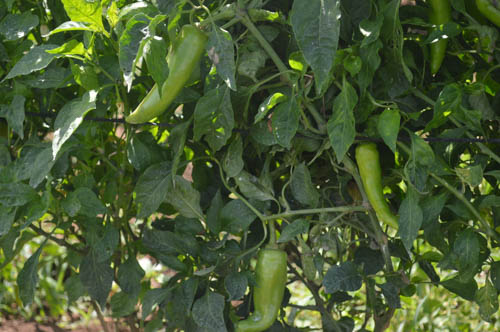ChiliPepper: (128, 32, 206, 124), (236, 249, 293, 330), (355, 147, 403, 226)
